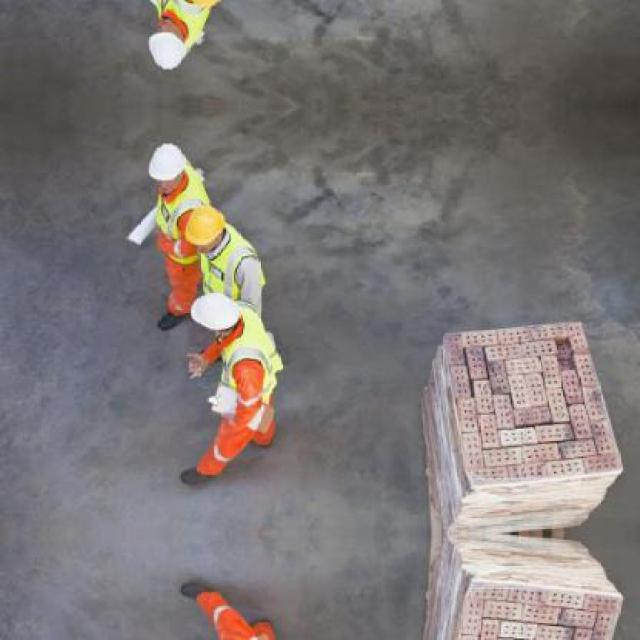helmet: (190, 291, 244, 330), (145, 140, 184, 192), (145, 21, 184, 72), (184, 205, 224, 250)
